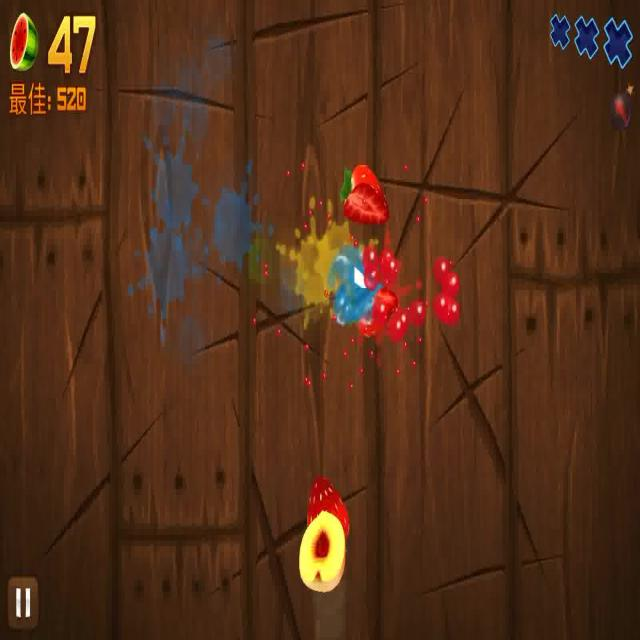fruit: (298, 513, 347, 595), (303, 469, 353, 541), (340, 159, 389, 231)
